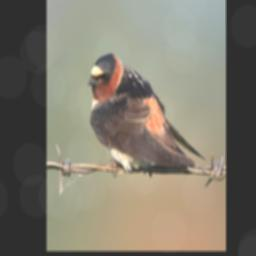Swallow: (87, 51, 207, 177)
